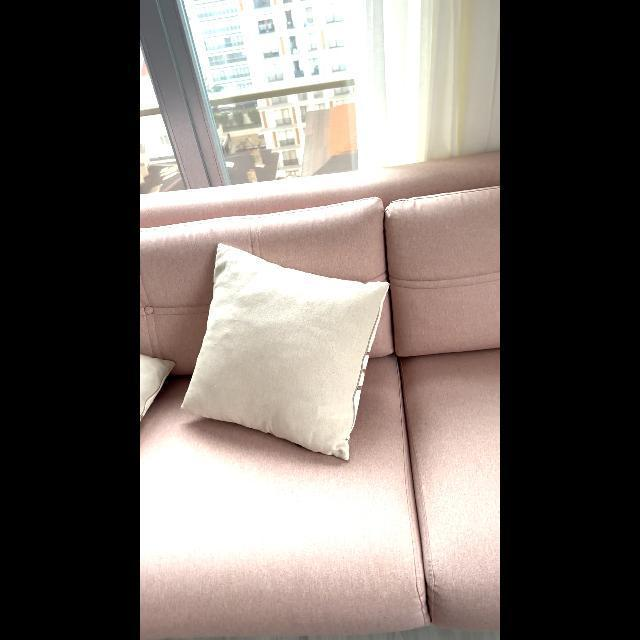throw pillow: (184, 233, 400, 463)
